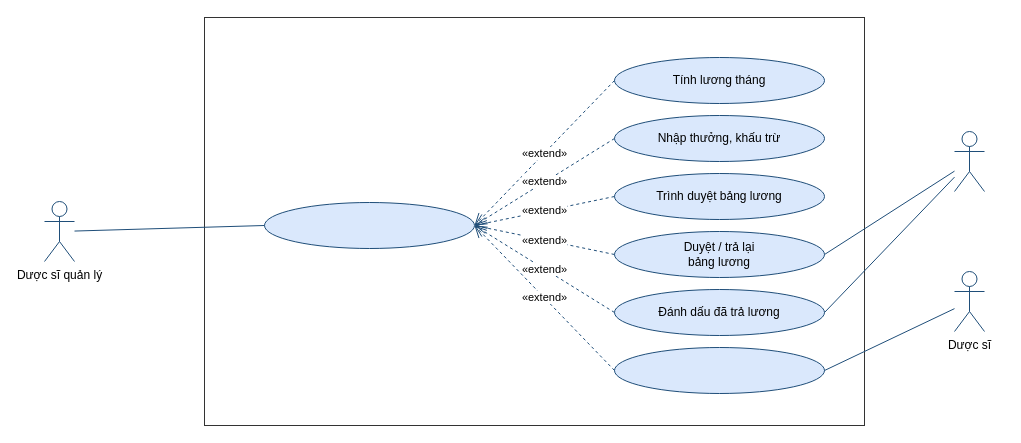
Some shapes in this 1021 by 443 pixel diagram are drawn without their labels. Each missing label, with the box of its shape:
Quản lý bảng lương: (264, 202, 474, 248)
Quản trị viên: (954, 130, 984, 192)
Xem phiếu lương: (614, 346, 824, 394)
